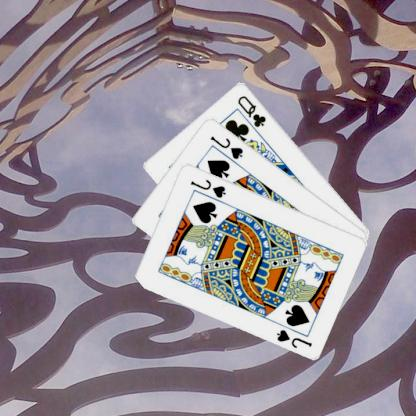JS: (210, 133, 247, 160), (189, 176, 229, 199), (275, 327, 315, 349)
QC: (236, 92, 269, 128)
